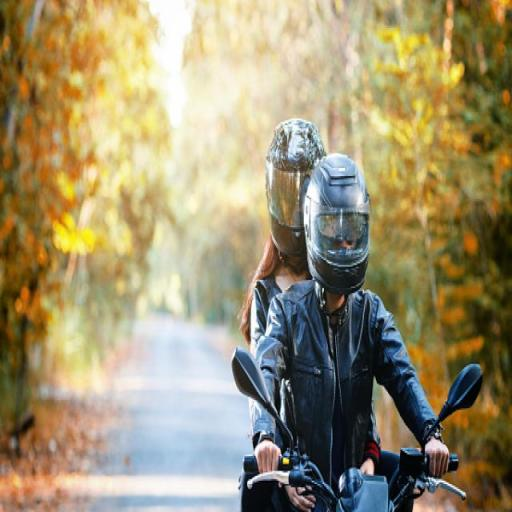Helmet: (304, 154, 369, 294), (266, 119, 325, 257)
Motor: (232, 348, 465, 511)
